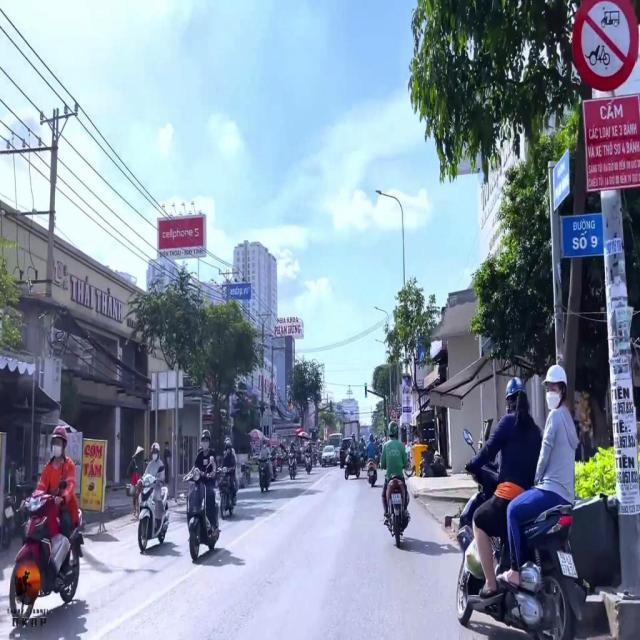cam_cac_loai_xe_3_banh: (391, 409, 396, 419)
